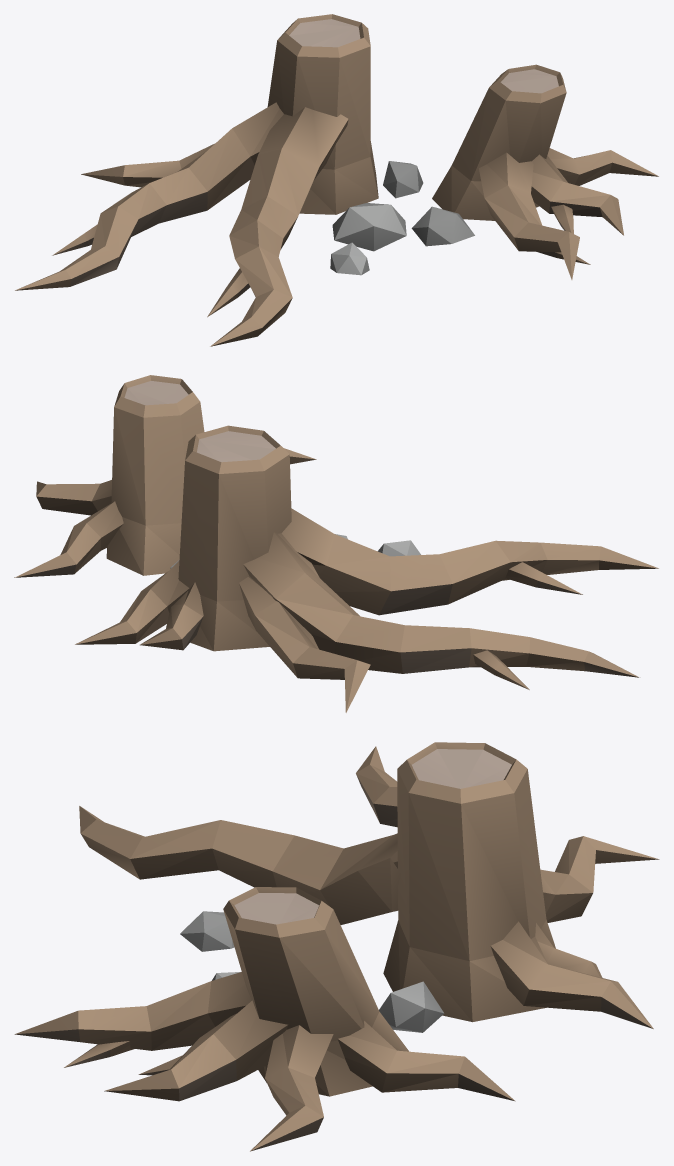
Rendered from roots.glb.
3 views of the same model, one above another, from view 1: azimuth 30°, elevation 25°; view 2: azimuth 150°, elevation 25°; view 3: azimuth 270°, elevation 25° (orthographic). The views are drawn at different scales.
Visible parts, largest first — view 1: roots.001; view 2: roots.001; view 3: roots.001.
Boxes of the visible parts, bbox=[...] form: roots.001: bbox=[15, 14, 658, 346]; roots.001: bbox=[14, 375, 658, 712]; roots.001: bbox=[14, 742, 659, 1151].
Size of the model in its own units: 3.99 by 1.01 by 2.67.
